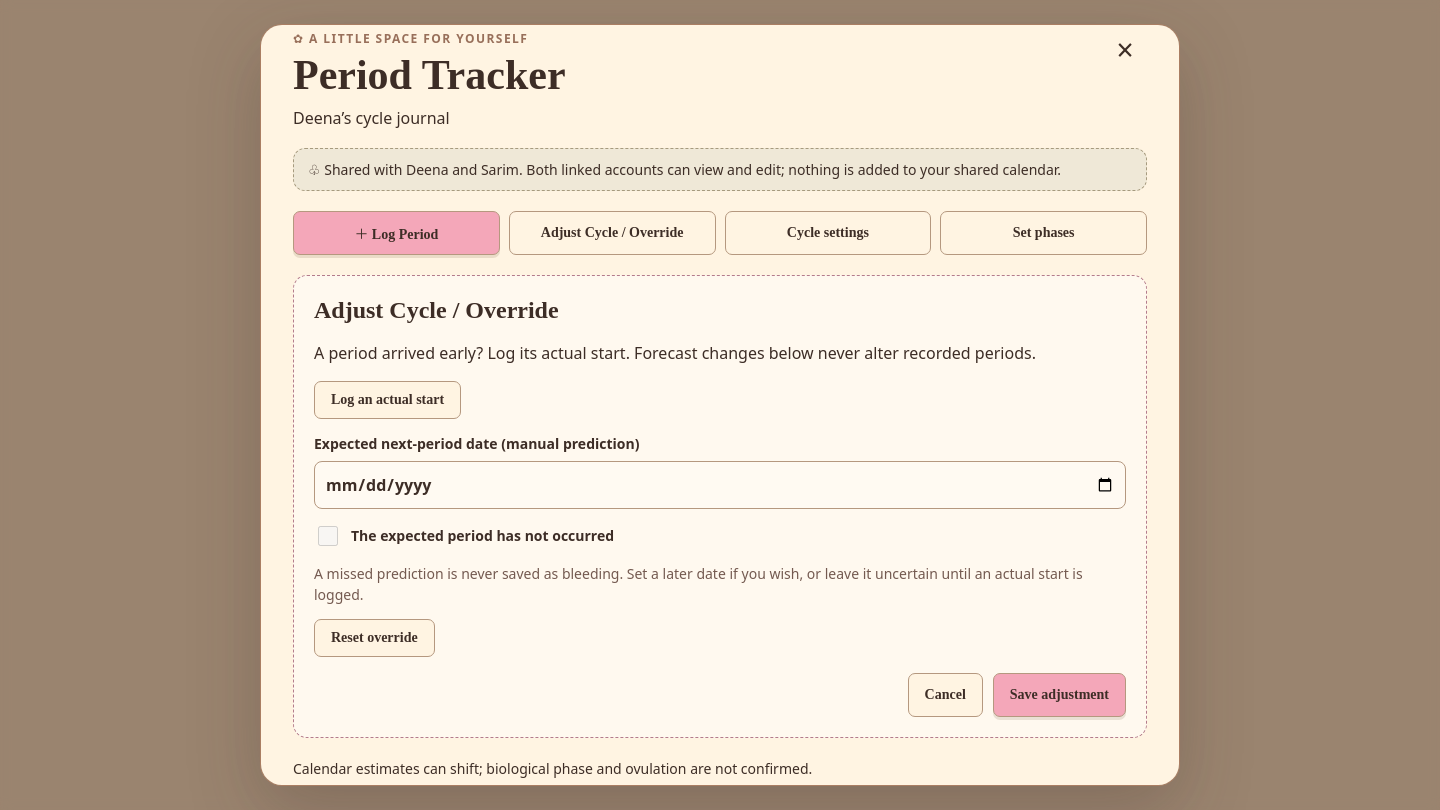
it: private cycle journal interactions with simulated persistence › saves manual settings and override, explores month cells, and confirms deletions
Earlier steps of the test are not shown.
Later steps or results of the test are not shown.
(page scrolled)
Type "2026-04-02" into the date field labelled "Expected next-period date (manual prediction)".
click(720, 485); type("2026-04-02")  # box 314,461 -> 1126,509
Click the button "Save adjustment".
click(1059, 695)  # box 993,673 -> 1126,717
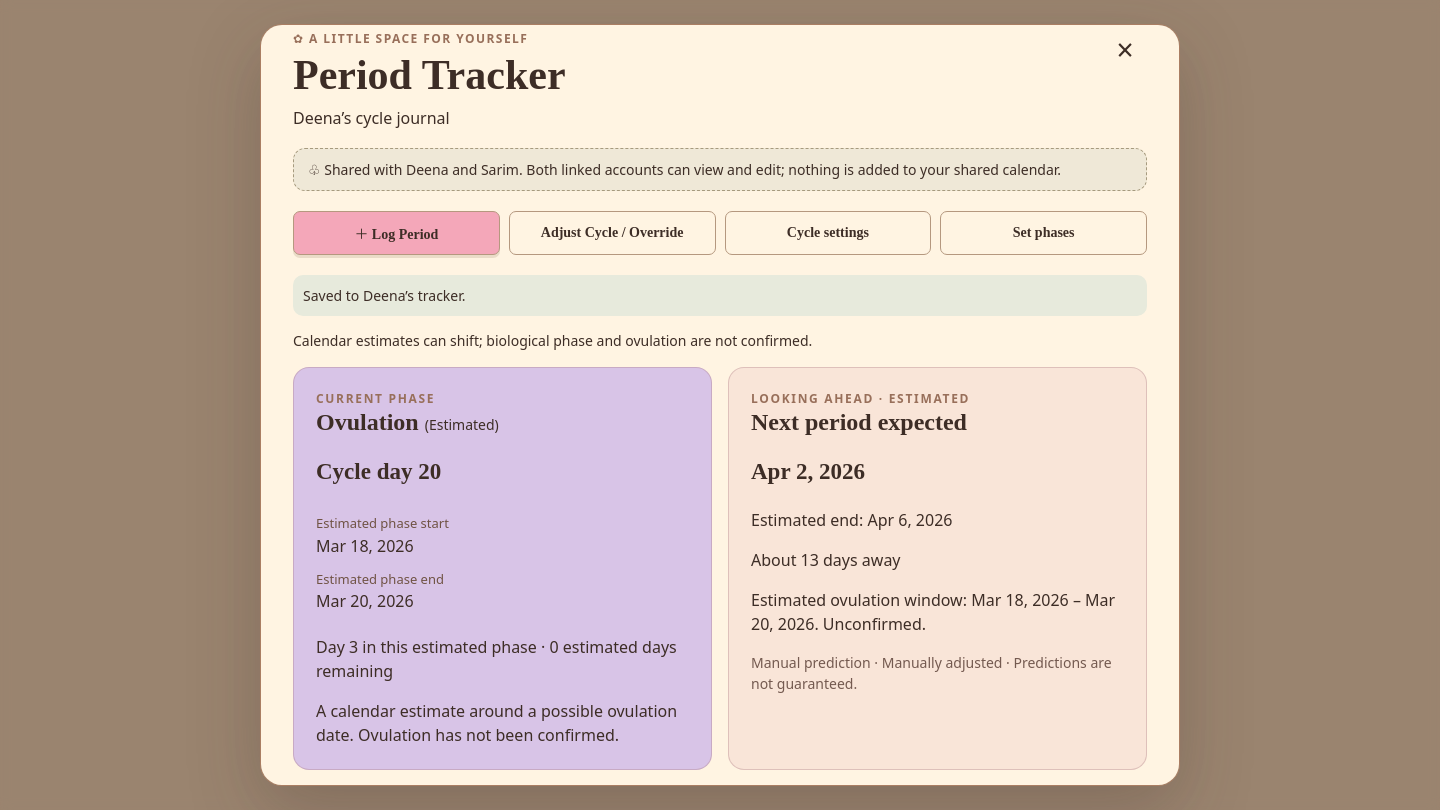
Expected: the text "Apr 2, 2026" is shown, 751,459 -> 865,484
Click the button "Adjust Cycle / Override".
click(612, 233)  # box 509,211 -> 716,255
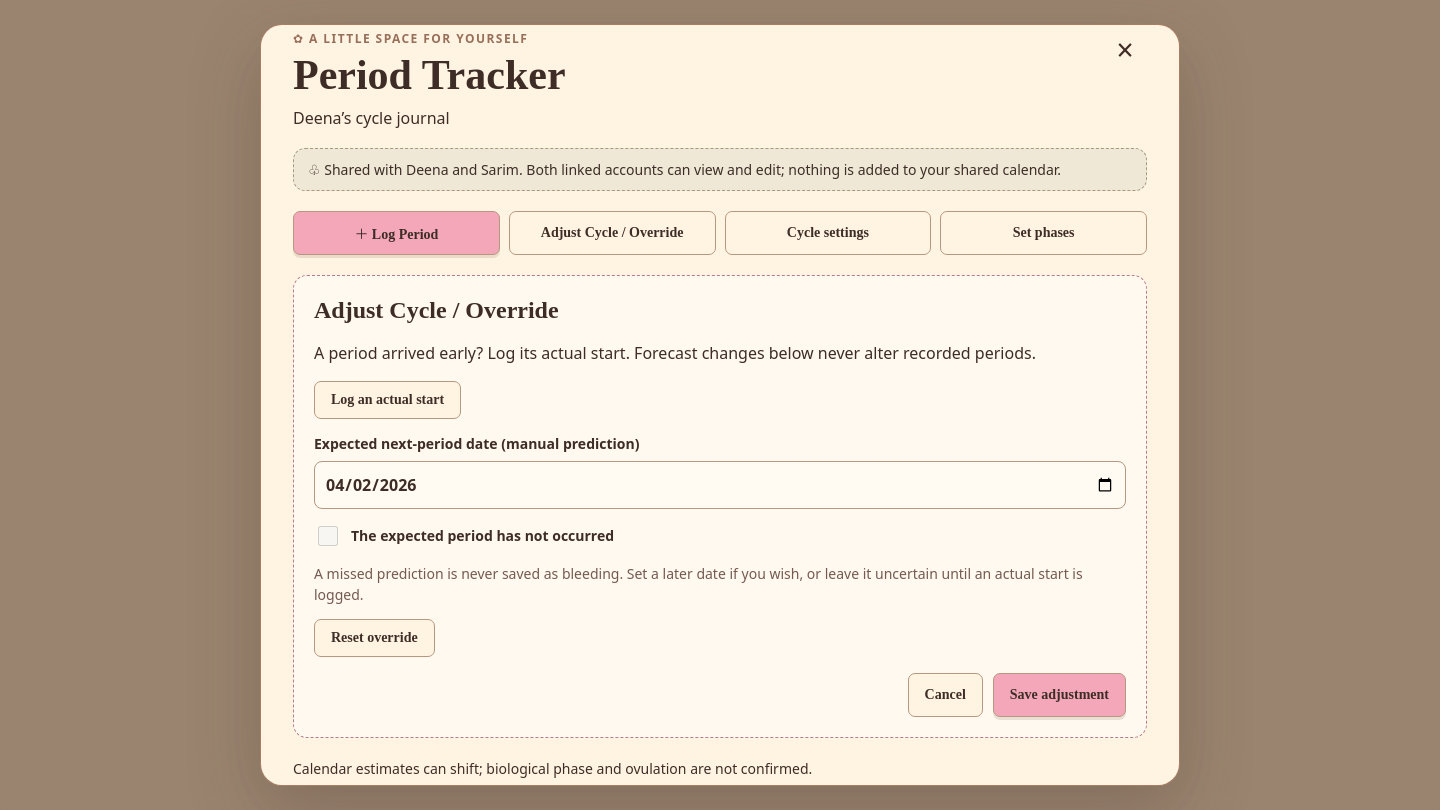
Click the button "Reset override".
click(374, 638)  # box 314,619 -> 435,657
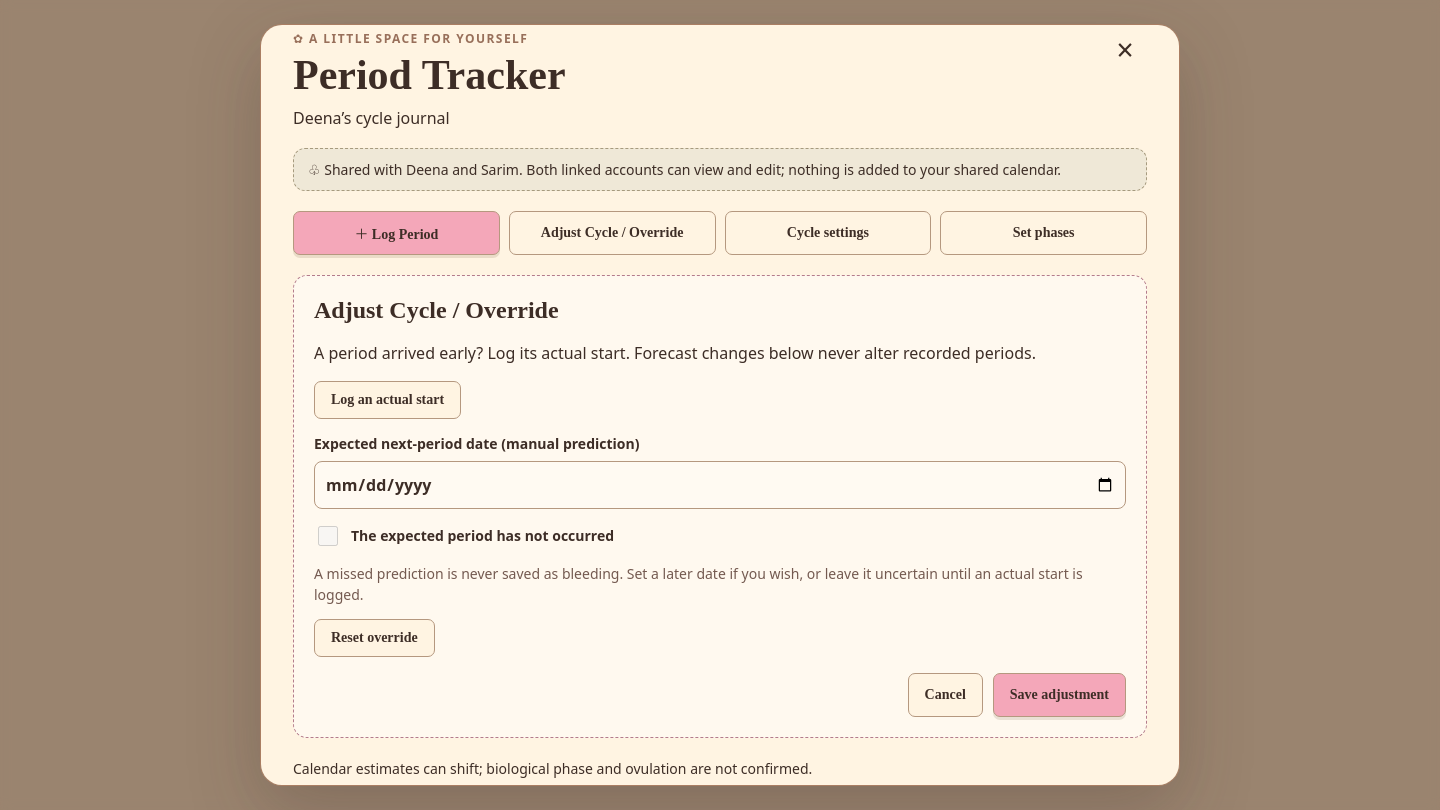
Click the button "Save adjustment".
click(1059, 695)  # box 993,673 -> 1126,717
(page scrolled)
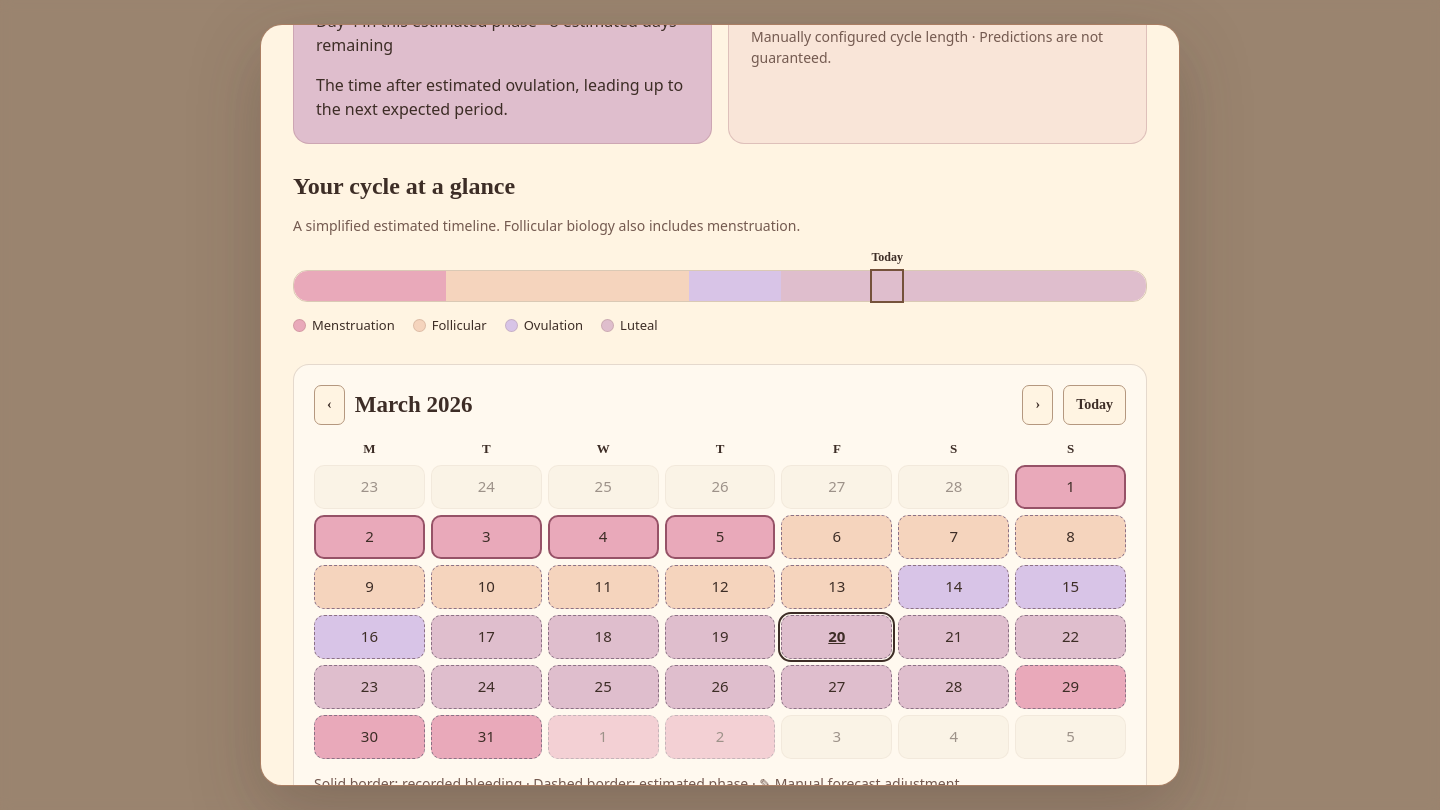
Expected: the button "Save adjustment" is gone
Click the button named "Next cycle month".
click(1038, 405)  # box 1022,385 -> 1053,425
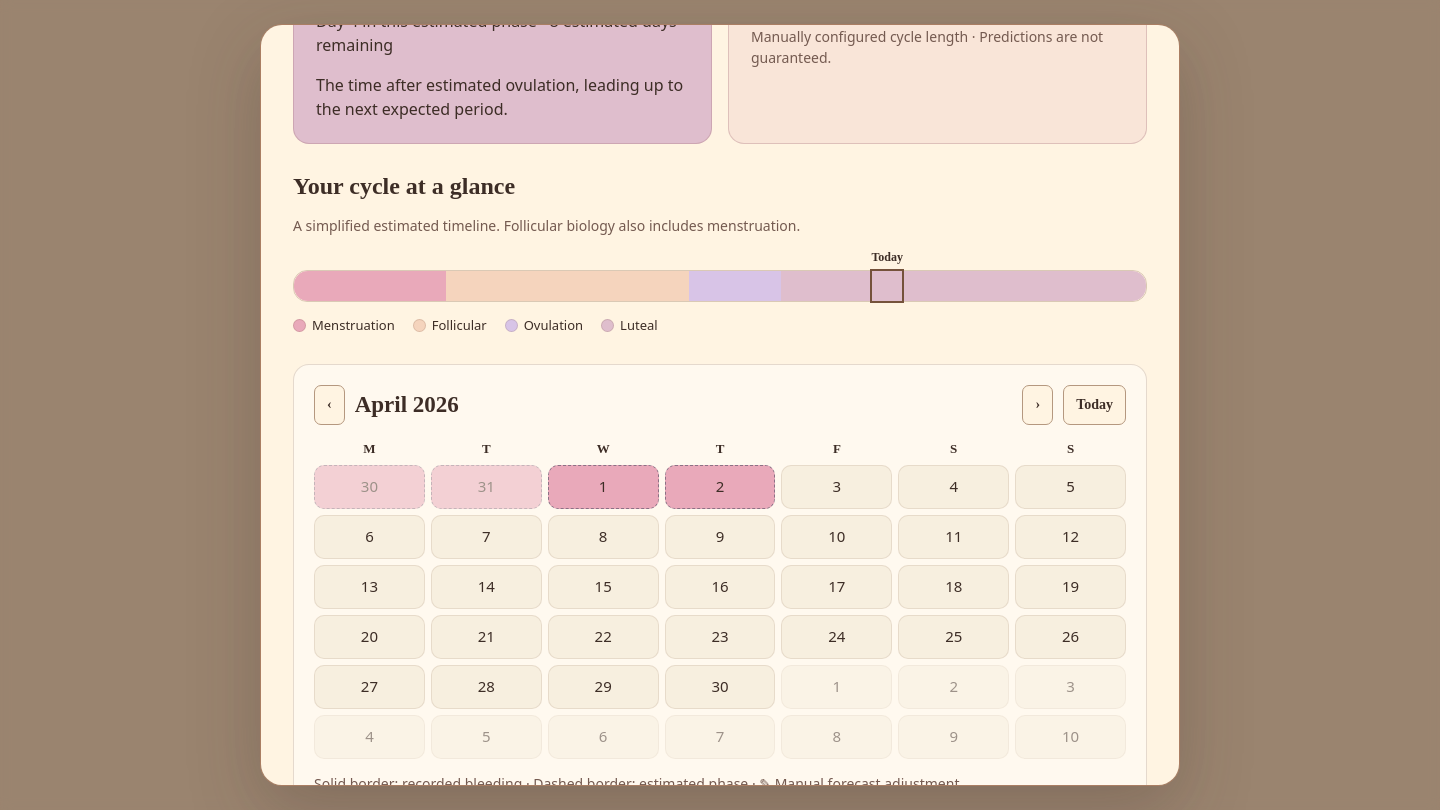
Expected: the heading "April 2026" is shown, 355,392 -> 459,417
Click the 1st button "2".
click(720, 487)  # box 665,465 -> 776,509
(page scrolled)
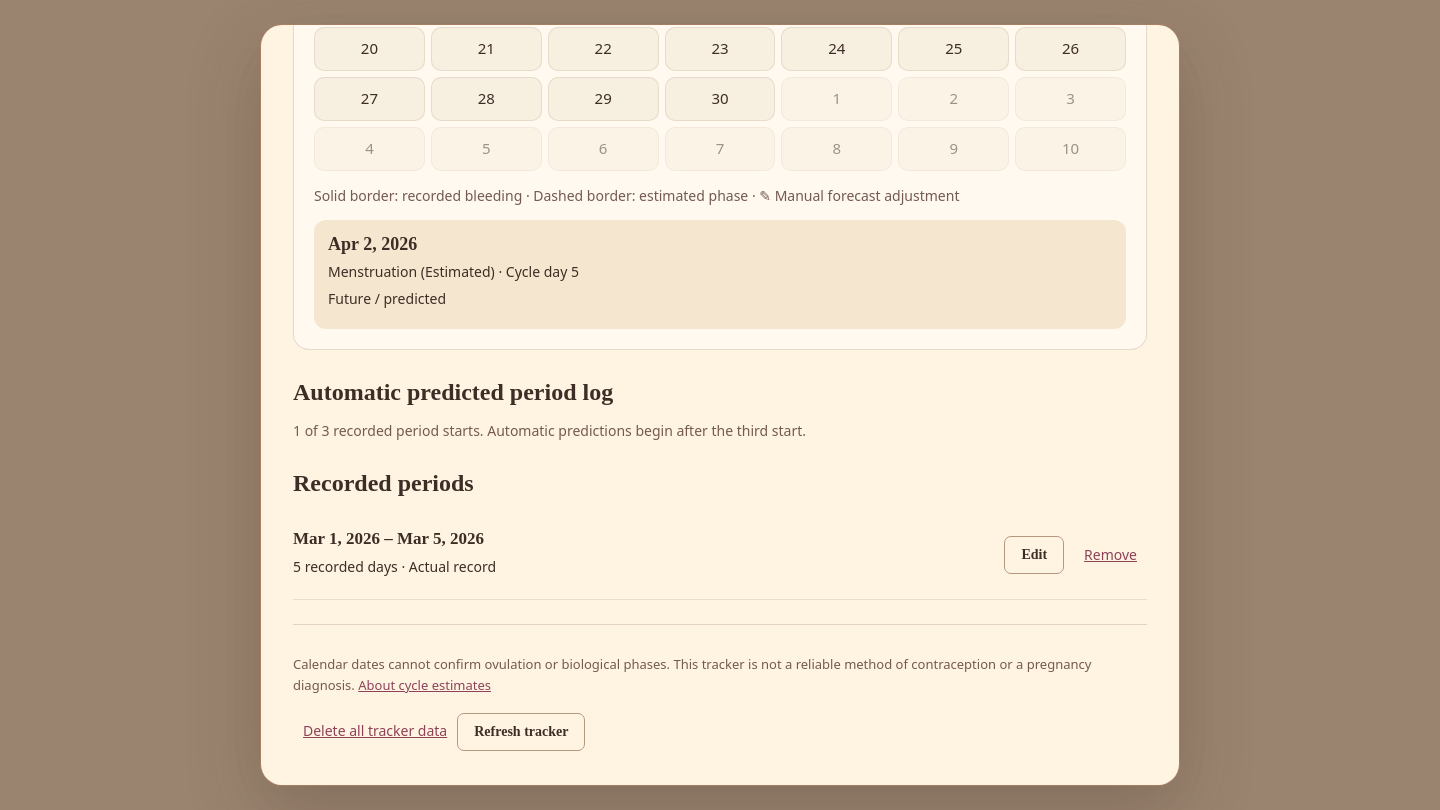
Expected: the text "Future / predicted" is shown, 328,289 -> 446,308
